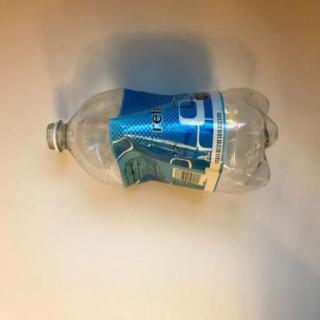Plastic-bottle: (46, 86, 280, 195)
